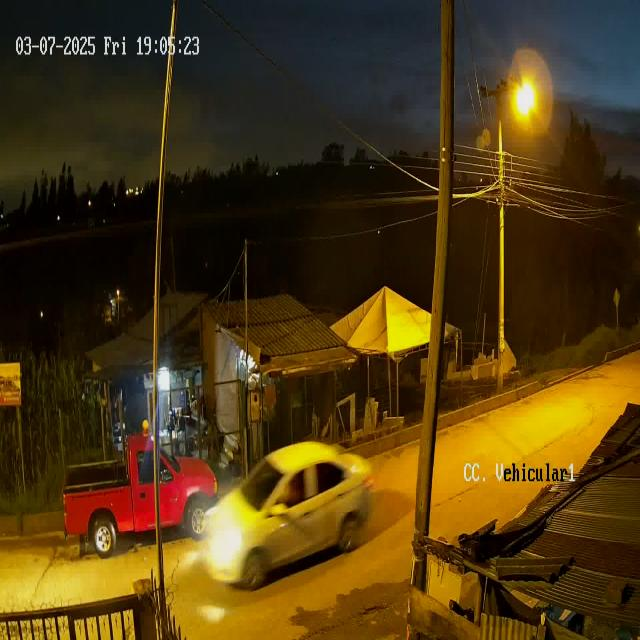SED: (202, 439, 375, 590)
